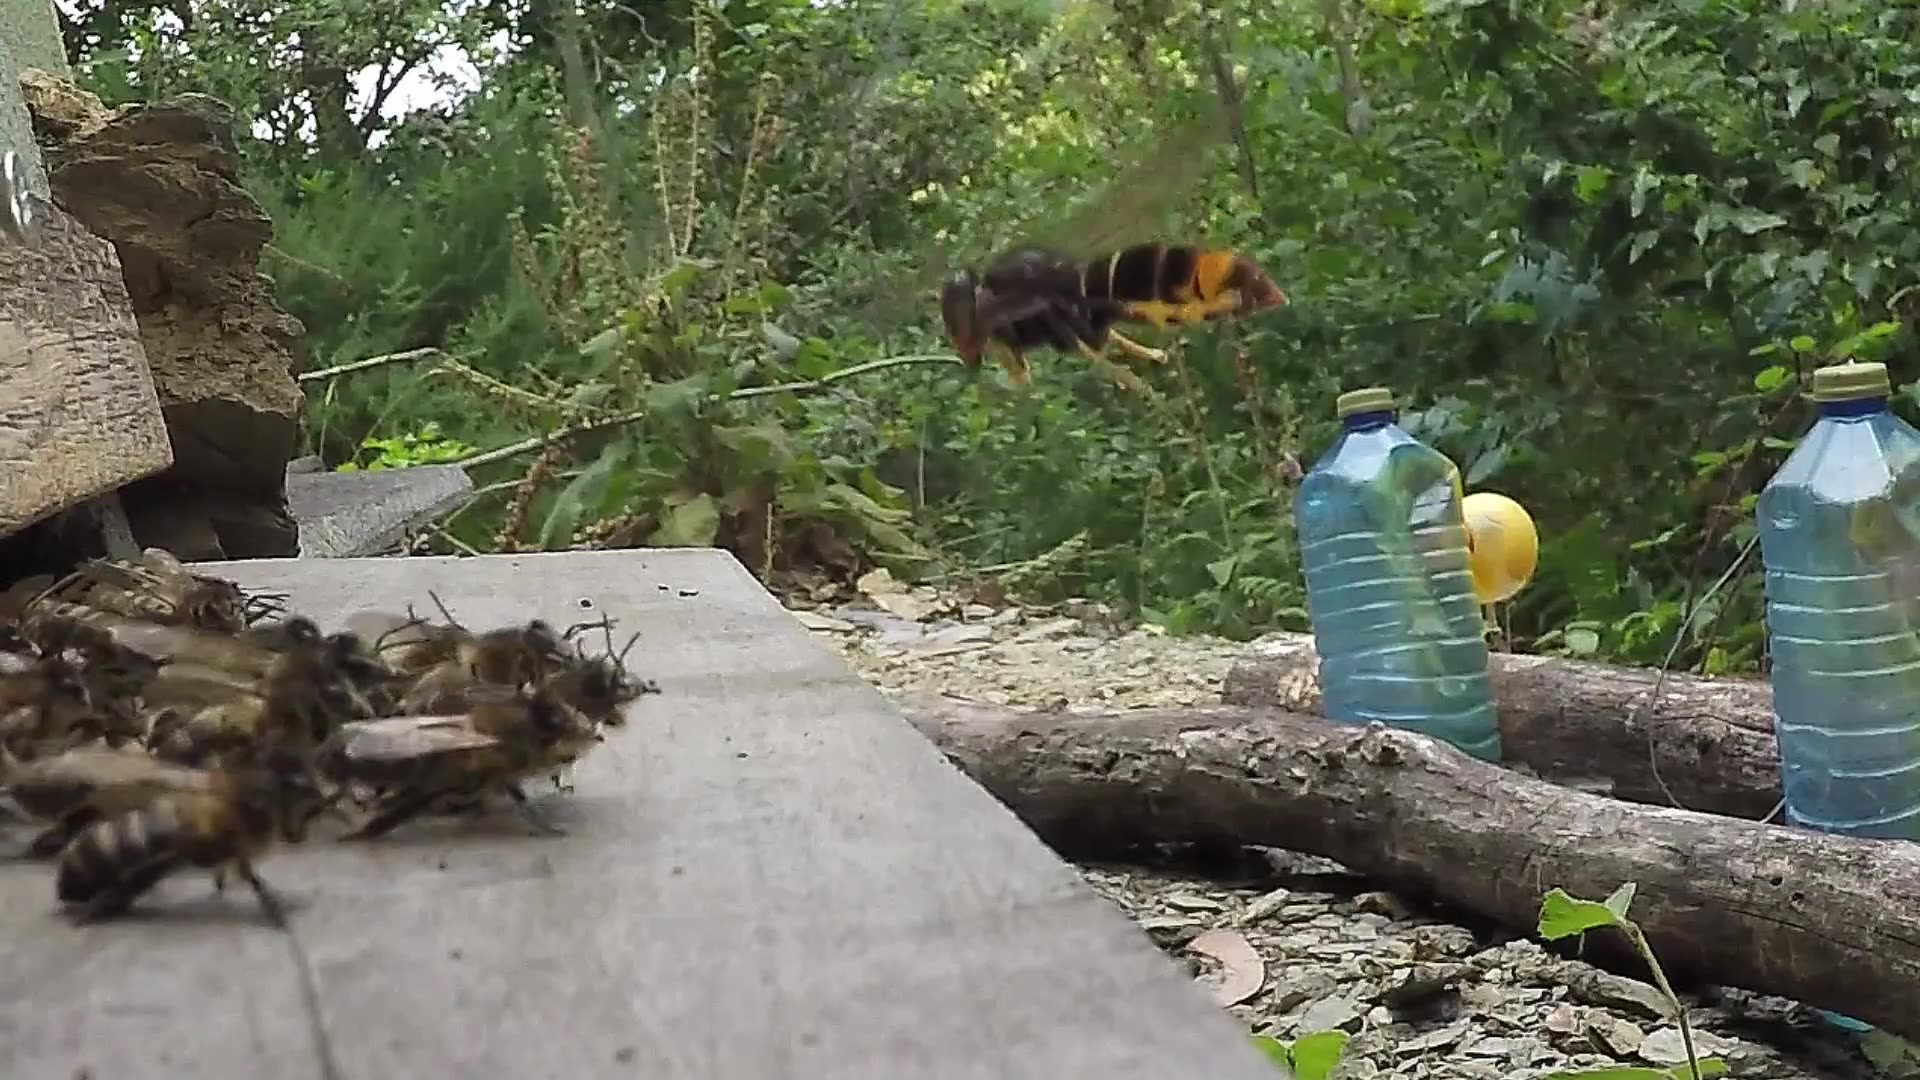bee: (1, 541, 326, 940), (327, 595, 659, 847)
hornet: (919, 208, 1298, 400)
